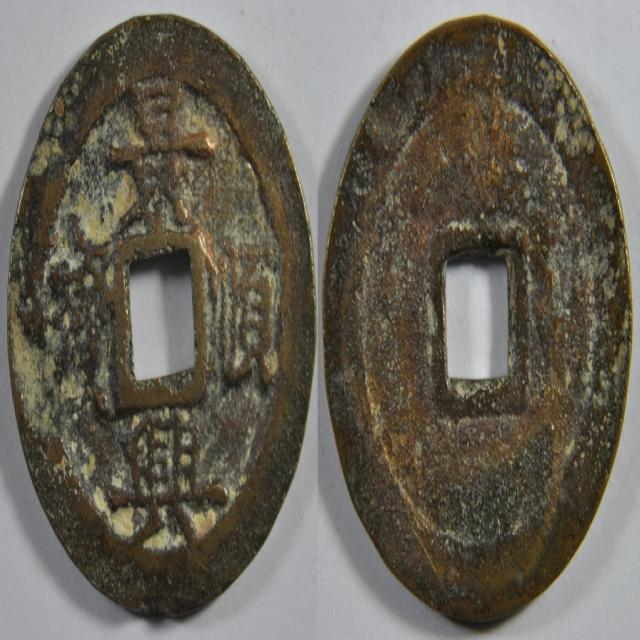Coin: (325, 0, 634, 626), (5, 9, 316, 624)
